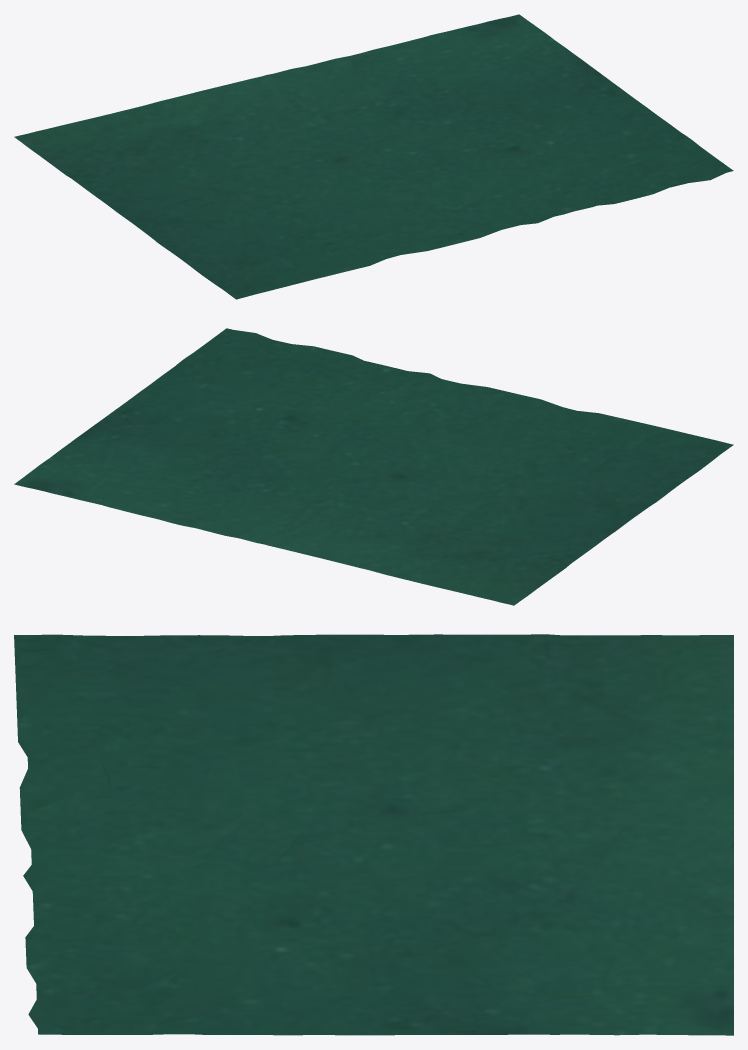
The picture shows the model from 3 angles, top to bottom: view 1: azimuth 30°, elevation 25°; view 2: azimuth 150°, elevation 25°; view 3: azimuth 270°, elevation 25°; orthographic projection. The views are drawn at different scales.
Bounding box in the file's own units: 104 × 0.3936 × 79.55.
2 materials, 2 textured.
